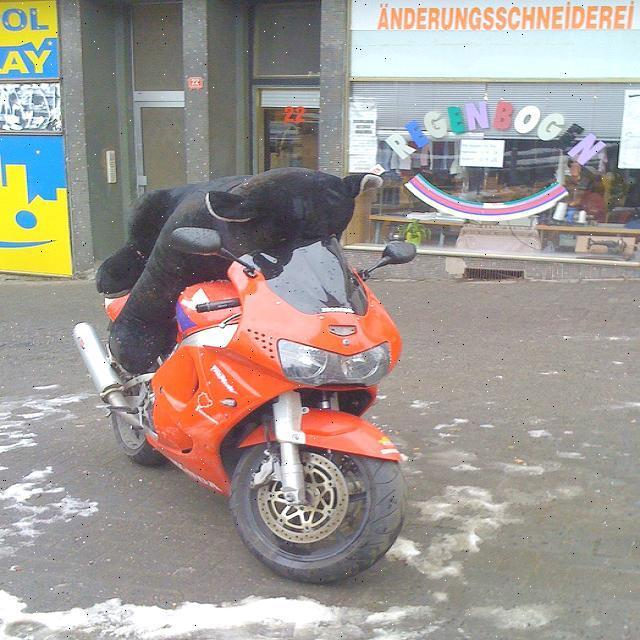motorcycle: (59, 163, 428, 601)
